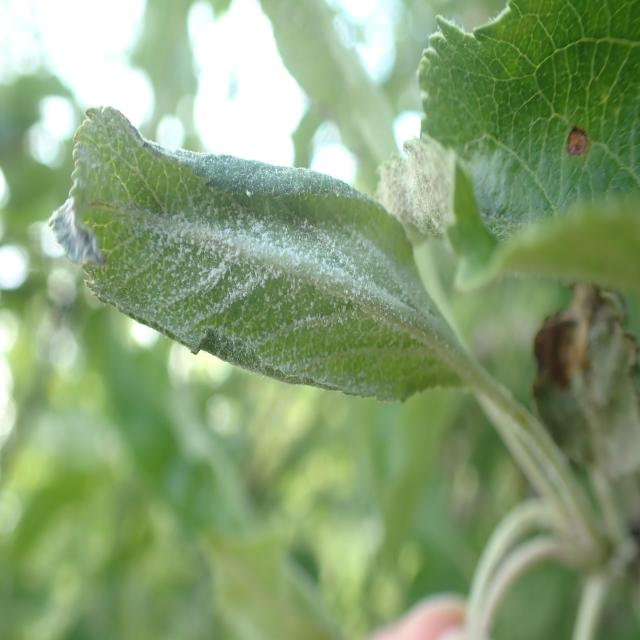Black Rot: (559, 106, 594, 180)
Powdery_mildew: (55, 98, 475, 414), (372, 122, 556, 292)
